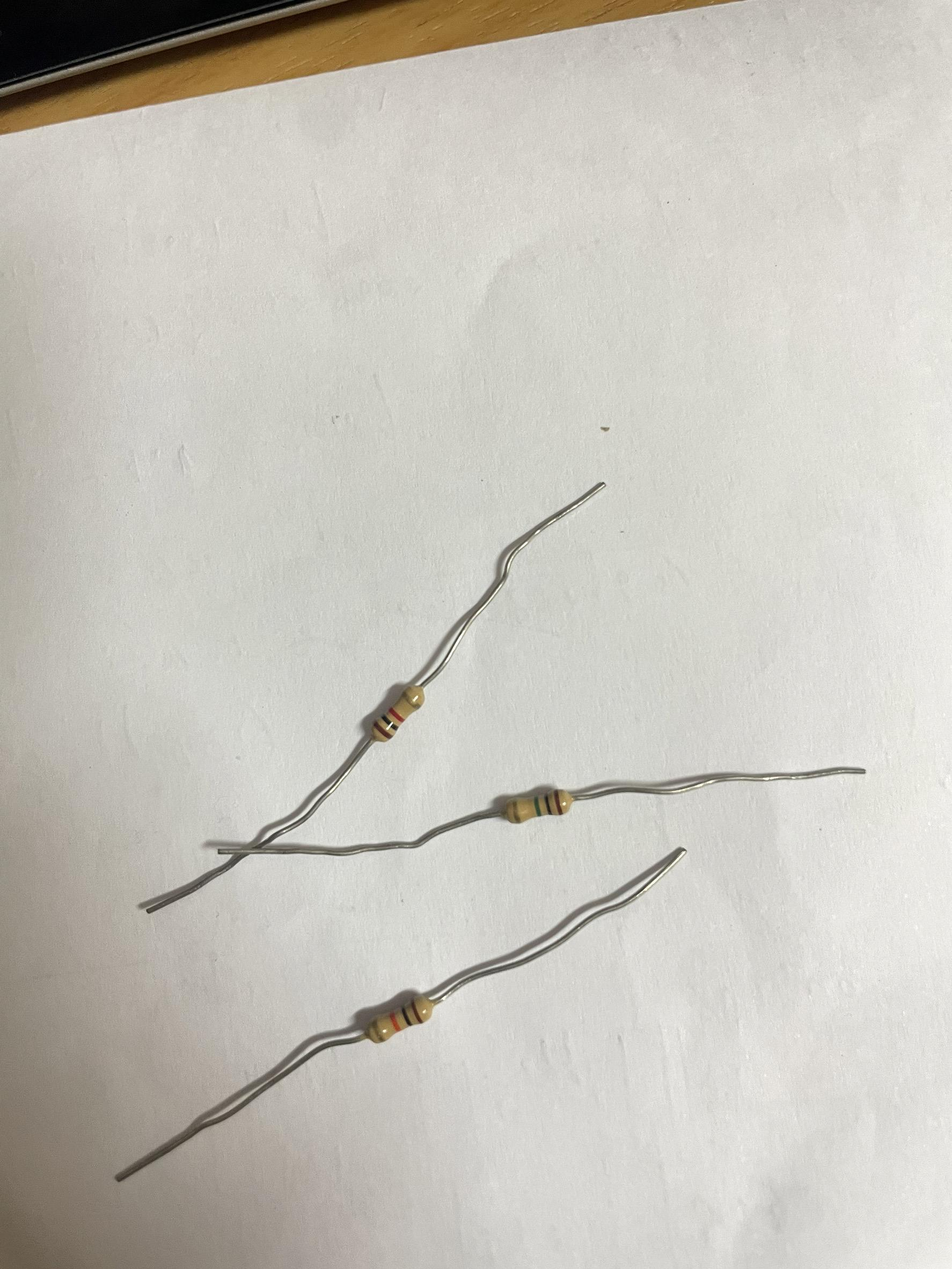resistor: (359, 994, 439, 1042), (368, 684, 426, 746), (500, 788, 573, 823)
